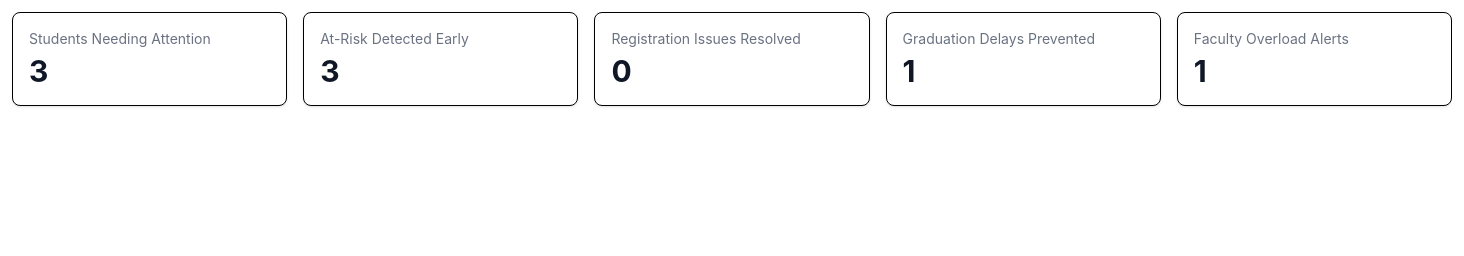
Scenario: KpiCards drill-down panel › shows department in the context column for faculty rows
The image size is (1464, 256).
Click the button "Faculty Overload Alerts 1" at (1271, 38), box top-left (1177, 12), bottom-right (1452, 106)
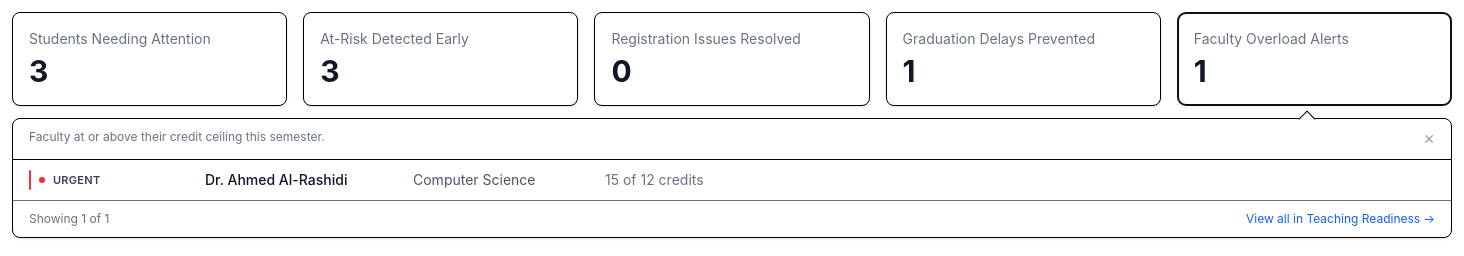
Now the text "Dr. Ahmed Al-Rashidi" is shown, box top-left (205, 171), bottom-right (347, 188)
Now the text "Computer Science" is shown, box top-left (413, 171), bottom-right (536, 188)
Now the text "15 of 12 credits" is shown, box top-left (605, 171), bottom-right (704, 188)
